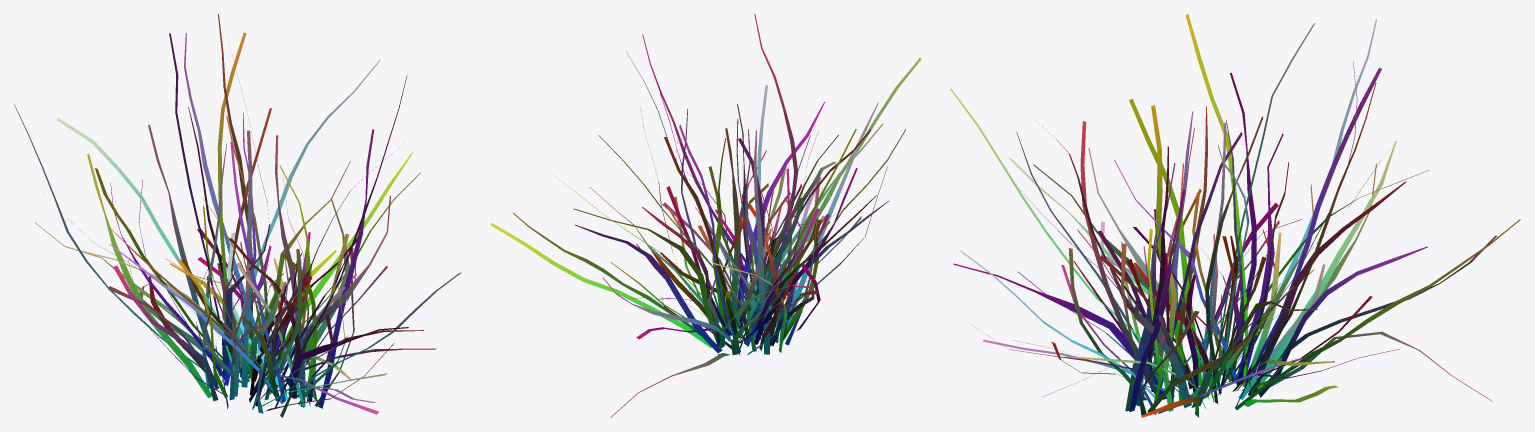
File: Wild_Grass_vlkhcbxia_Mid_vlkhcbxia_VarD_LOD0.fbx
3 renders of one model, left to right at view 1: azimuth 30°, elevation 25°; view 2: azimuth 150°, elevation 25°; view 3: azimuth 270°, elevation 25°, orthographic. The views are drawn at different scales.
Visible parts, largest first — view 1: _x73h_VarD_LOD1; view 2: _x73h_VarD_LOD1; view 3: _x73h_VarD_LOD1.
Boxes of the visible parts, x1=… form: _x73h_VarD_LOD1: x1=14, y1=14, x2=461, y2=417; _x73h_VarD_LOD1: x1=490, y1=14, x2=921, y2=417; _x73h_VarD_LOD1: x1=950, y1=14, x2=1520, y2=417.
Size of the model in its own units: 35.88 by 27.21 by 41.47.
